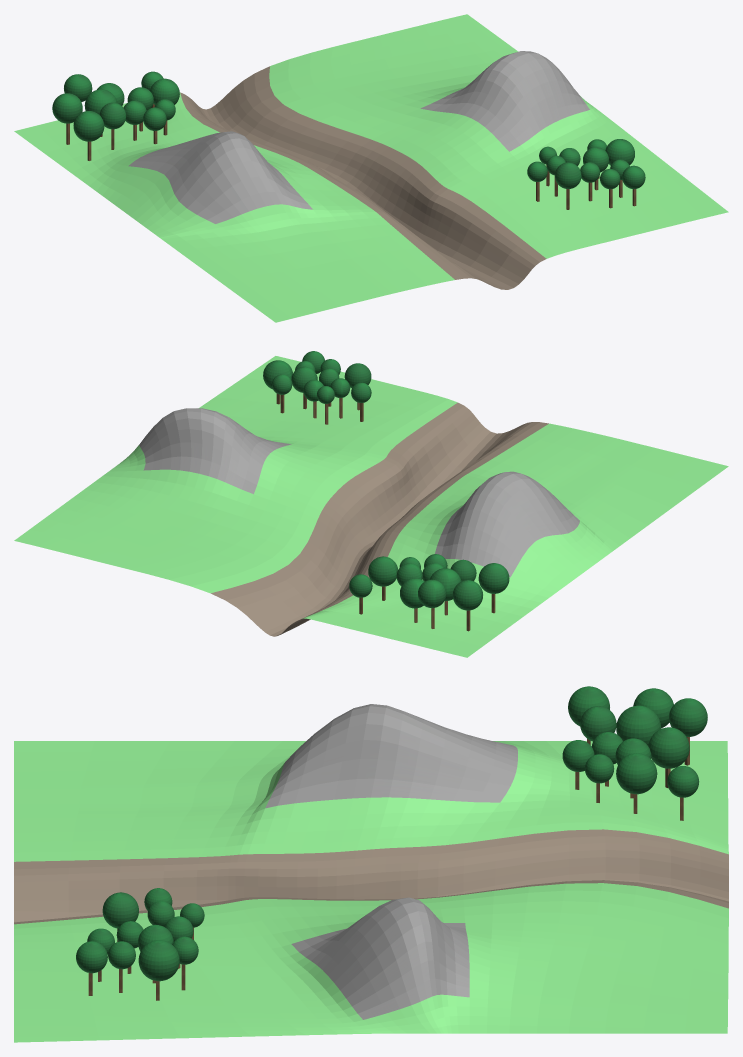
3 views of the same model, one above another, from view 1: azimuth 30°, elevation 25°; view 2: azimuth 150°, elevation 25°; view 3: azimuth 270°, elevation 25° (orthographic). The views are drawn at different scales.
Parts seen in each view (by area): view 1: Plane, Sphere.014, Sphere.021, Sphere.015, Sphere.006, Sphere.003, Sphere.018, Sphere.017, Sphere.019; view 2: Plane, Sphere.014, Sphere.021, Sphere.015, Sphere.017, Sphere.020, Sphere.019; view 3: Plane, Sphere.020, Sphere.003, Sphere.015, Sphere.019, Sphere.017, Sphere.006, Sphere.014, Sphere.018, Sphere.021, Sphere.012, Sphere.024 (+4 smaller).
Boxes of the visible parts, bbox=[...] form: Plane: bbox=[14, 14, 728, 322]; Sphere.014: bbox=[73, 111, 104, 141]; Sphere.021: bbox=[52, 93, 82, 123]; Sphere.015: bbox=[150, 78, 179, 104]; Sphere.006: bbox=[555, 162, 581, 188]; Sphere.003: bbox=[605, 139, 634, 165]; Sphere.018: bbox=[99, 102, 126, 129]; Sphere.017: bbox=[64, 74, 92, 101]; Sphere.019: bbox=[84, 89, 117, 114]; Plane: bbox=[14, 356, 728, 657]; Sphere.014: bbox=[478, 563, 509, 593]; Sphere.021: bbox=[452, 580, 482, 610]; Sphere.015: bbox=[368, 556, 398, 586]; Sphere.017: bbox=[418, 579, 446, 608]; Sphere.020: bbox=[400, 578, 424, 608]; Sphere.019: bbox=[429, 568, 461, 601]; Plane: bbox=[14, 704, 728, 1042]; Sphere.020: bbox=[648, 727, 689, 768]; Sphere.003: bbox=[138, 940, 179, 981]; Sphere.015: bbox=[616, 753, 657, 794]; Sphere.019: bbox=[616, 705, 660, 746]; Sphere.017: bbox=[669, 698, 707, 736]; Sphere.006: bbox=[102, 892, 138, 928]; Sphere.014: bbox=[568, 686, 609, 726]; Sphere.018: bbox=[580, 706, 616, 741]; Sphere.021: bbox=[633, 688, 673, 728]; Sphere.012: bbox=[76, 941, 107, 973]; Sphere.024: bbox=[667, 766, 699, 797].
Bounding box in the file's own units: 200 × 44.15 × 200.
Materials: 5 (5 with a texture image).
